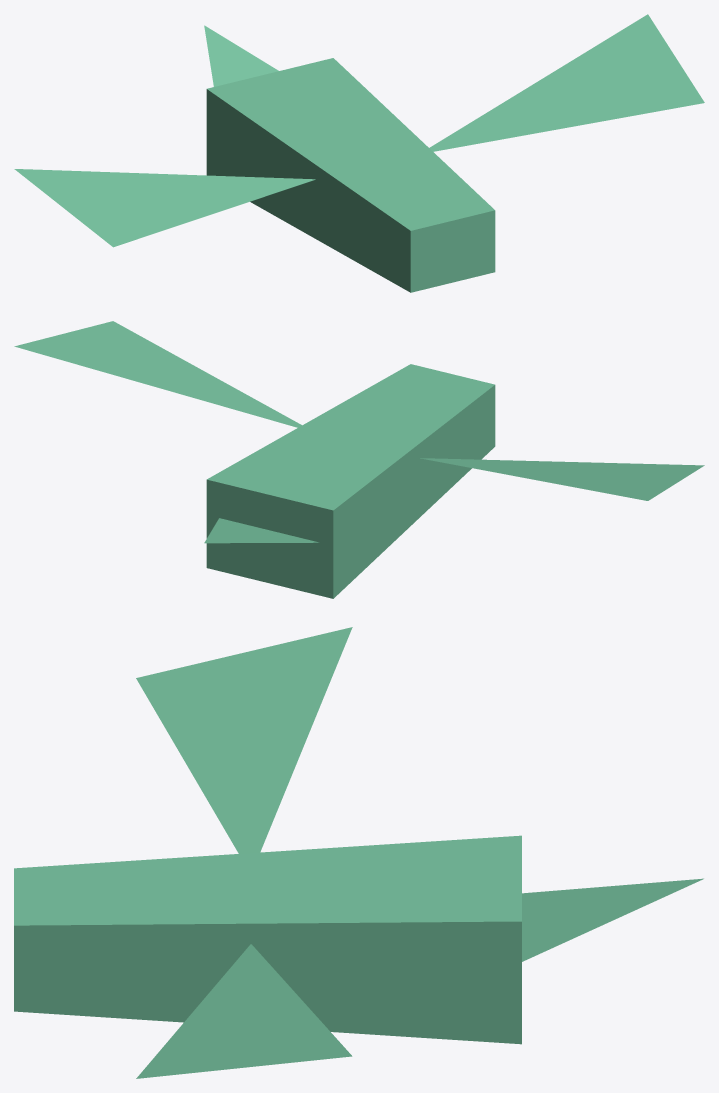
The model's file is marcador-provisional.glb.
The picture shows the model from 3 angles, top to bottom: view 1: azimuth 30°, elevation 25°; view 2: azimuth 150°, elevation 25°; view 3: azimuth 270°, elevation 25°; orthographic projection. The views are drawn at different scales.
Parts seen in each view (by area): view 1: ave-provisional; view 2: ave-provisional; view 3: ave-provisional.
Boxes of the visible parts, x1,y1,x2,y2 form: ave-provisional: (14, 14, 704, 292); ave-provisional: (14, 321, 704, 598); ave-provisional: (14, 627, 703, 1078).
Bounding box in the file's own units: 1.5 × 0.26 × 1.02.
